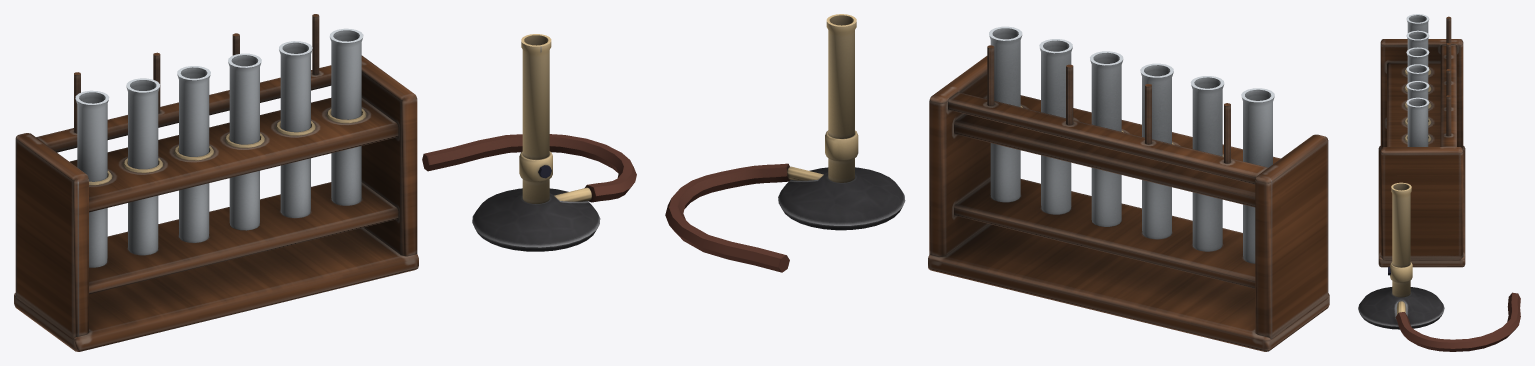
File: TestTubeRack.fbx
3 renders of one model, left to right at view 1: azimuth 30°, elevation 25°; view 2: azimuth 150°, elevation 25°; view 3: azimuth 270°, elevation 25°, orthographic. The views are drawn at different scales.
Parts seen in each view (by area): view 1: TestTubeRack_Main, TestTubeRack_Glass; view 2: TestTubeRack_Main, TestTubeRack_Glass; view 3: TestTubeRack_Main, TestTubeRack_Glass.
Boxes of the visible parts, x1,y1,x2,y2 form: TestTubeRack_Main: (14, 14, 636, 351); TestTubeRack_Glass: (75, 28, 363, 267); TestTubeRack_Main: (665, 14, 1329, 351); TestTubeRack_Glass: (989, 26, 1274, 263); TestTubeRack_Main: (1358, 16, 1520, 351); TestTubeRack_Glass: (1406, 14, 1429, 146).
Size of the model in its own units: 228 by 83 by 78.97.
